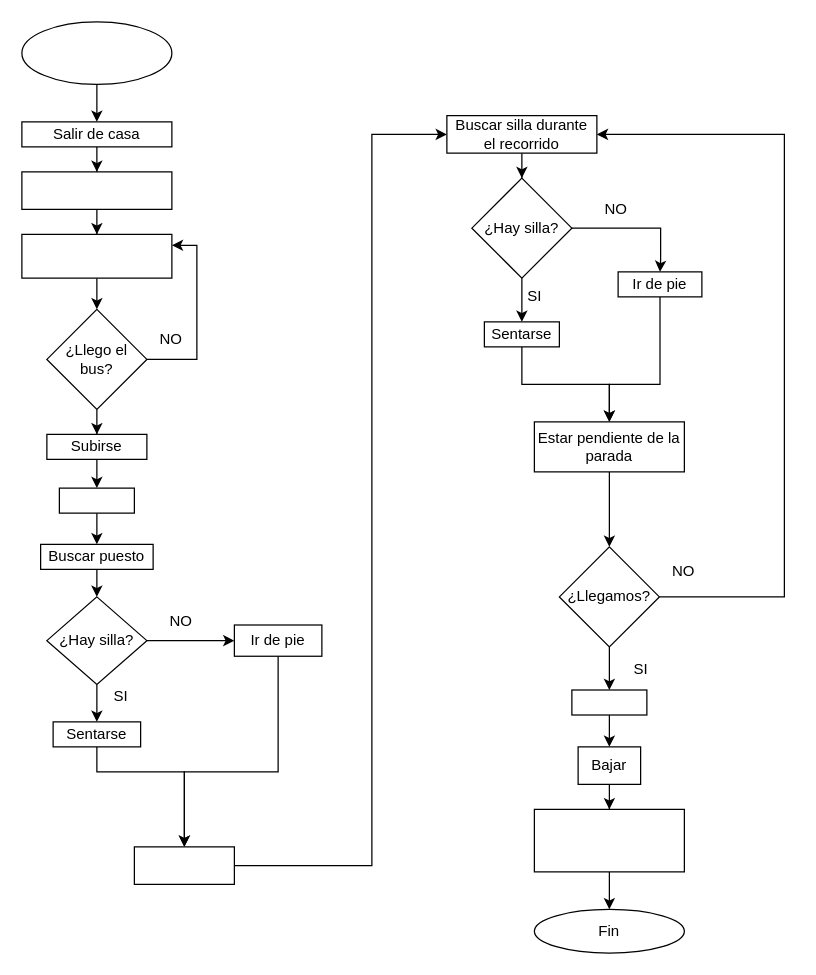
Image size: 816x975. Some labels were removed from this diagram. Each missing label, with the centre of its shape:
Caminar a la parada del bus: (x=96, y=190)
Caminar la distancia faltante hasta el trabajo: (x=608, y=840)
Esperar a que llegue el bus: (x=96, y=255)
Inio: (x=96, y=52)
Pagar: (x=96, y=500)
Recorrido: (x=183, y=865)
Timbrar: (x=609, y=702)
